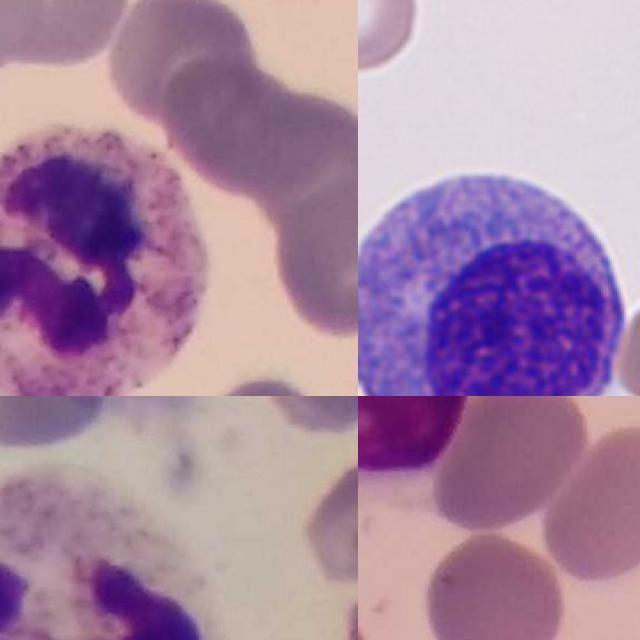Lymphocyte: (358, 149, 640, 396), (358, 396, 476, 508)
Neutrophil: (0, 122, 213, 396), (0, 472, 227, 640)
RBC: (358, 0, 425, 76)
